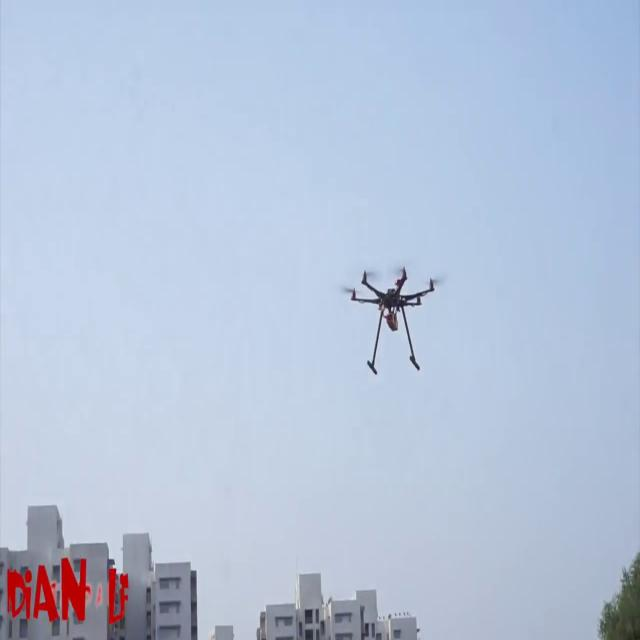drone: (334, 249, 448, 396)
